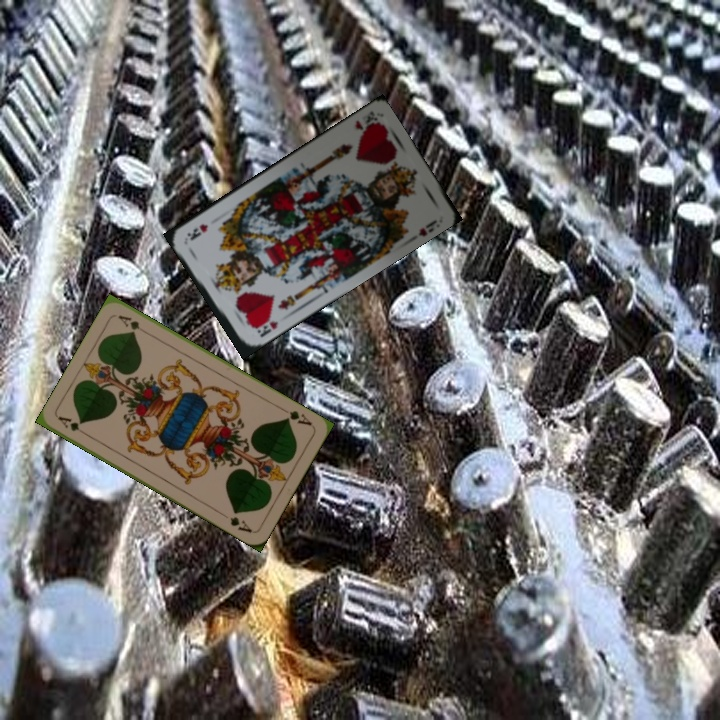GA: (54, 412, 91, 439), (277, 404, 315, 428)
HK: (351, 107, 380, 135), (253, 317, 281, 340)
